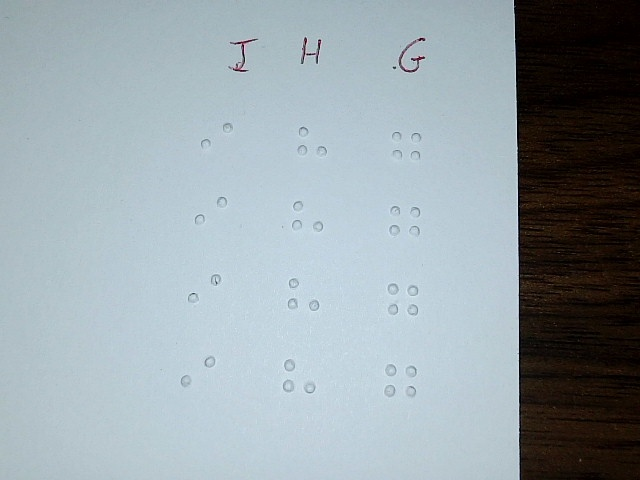G: (389, 120, 423, 177), (388, 197, 422, 254), (386, 275, 420, 332), (384, 355, 418, 412)
H: (295, 117, 329, 174), (291, 190, 325, 247), (287, 270, 321, 327), (282, 353, 316, 410)
I: (179, 345, 217, 404), (200, 112, 234, 169), (194, 185, 228, 242), (188, 263, 222, 320)
